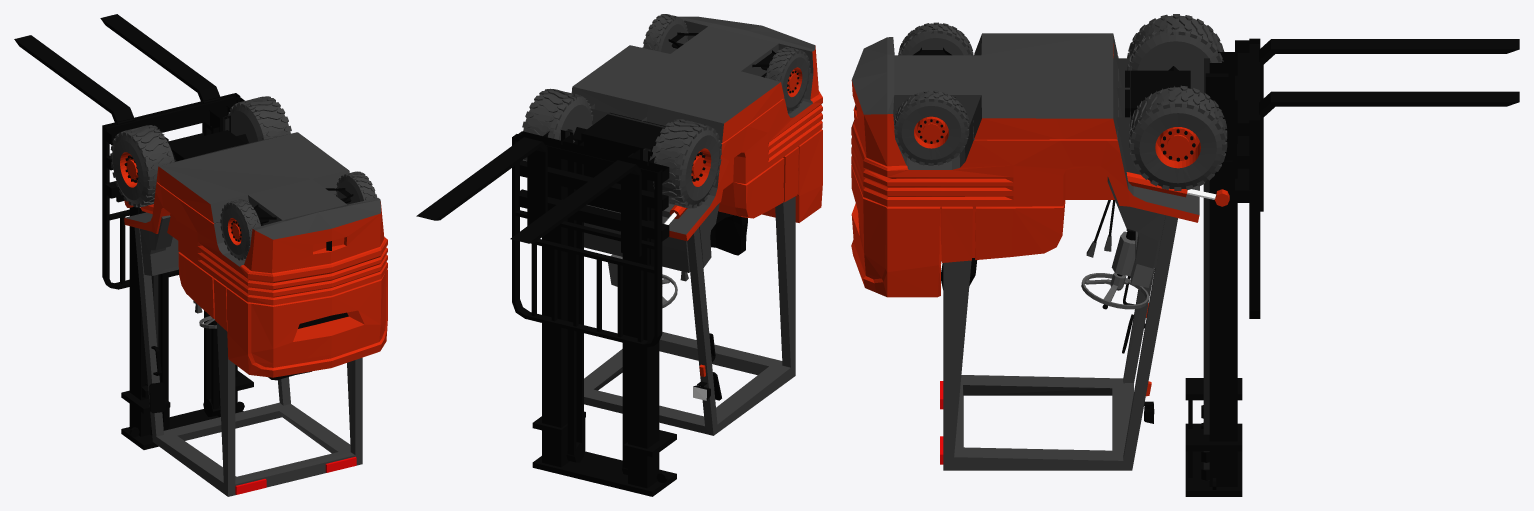
File: wozek02.FBX
3 renders of one model, left to right at view 1: azimuth 30°, elevation 25°; view 2: azimuth 150°, elevation 25°; view 3: azimuth 270°, elevation 25°, orthographic. The views are drawn at different scales.
Parts seen in each view (by area): view 1: rama, widly, maszt2, maszt, Object011, Object019, Object020, Object003, Object014, Object015, Circle002; view 2: rama, maszt, widly, maszt2, Object011, Object019, Object020, Object014, Object003, Object015, Circle002; view 3: rama, maszt, Object014, widly, Object015, Object020, Object019, maszt2, Object011, Circle001, Object003, Object002.
Boxes of the visible parts, x1,y1,x2,y2 form: rama: (124, 130, 387, 496); widly: (102, 93, 244, 289); maszt2: (121, 116, 244, 449); maszt: (121, 106, 253, 436); Object011: (110, 125, 175, 207); Object019: (14, 35, 134, 202); Object020: (100, 14, 220, 132); Object003: (220, 199, 260, 260); Object014: (227, 96, 291, 141); Object015: (336, 171, 377, 204); Circle002: (231, 111, 257, 143); rama: (571, 16, 822, 435); maszt: (532, 130, 676, 488); widly: (512, 131, 669, 347); maszt2: (532, 129, 676, 496); Object011: (649, 119, 721, 208); Object019: (510, 160, 641, 256); Object020: (416, 137, 547, 225); Object014: (522, 88, 593, 161); Object003: (765, 47, 810, 113); Object015: (642, 14, 688, 53); Circle002: (559, 104, 591, 142); rama: (851, 33, 1232, 470); maszt: (1185, 52, 1242, 486); Object014: (1129, 85, 1227, 190); widly: (1235, 38, 1260, 318); Object015: (894, 90, 969, 165); Object020: (1259, 91, 1519, 211); Object019: (1259, 39, 1519, 100); maszt2: (1185, 58, 1242, 496); Object011: (1127, 14, 1224, 70); Circle001: (1137, 41, 1211, 93); Object003: (898, 22, 973, 55); Object002: (1081, 272, 1149, 309).
Bounding box in the file's own units: 10.86 × 33.66 × 22.53.
